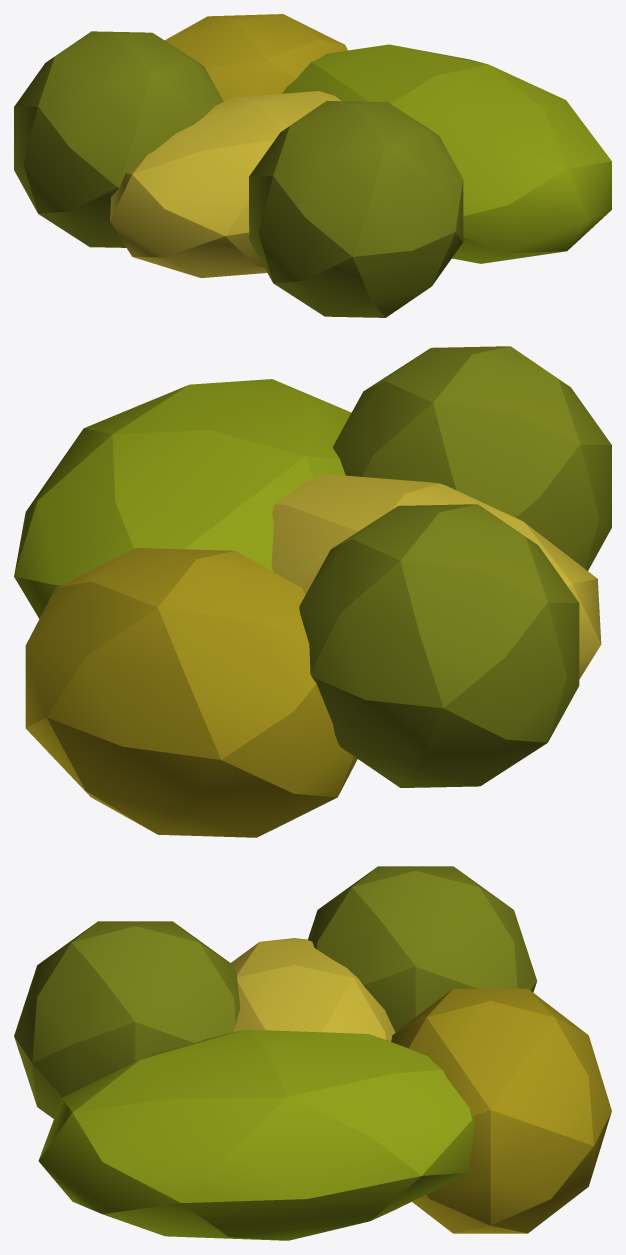
The model's file is Cloud2.fbx.
3 renders of one model, top to bottom at view 1: azimuth 30°, elevation 25°; view 2: azimuth 150°, elevation 25°; view 3: azimuth 270°, elevation 25°, orthographic. The views are drawn at different scales.
Parts seen in each view (by area): view 1: mergedBlocks; view 2: mergedBlocks; view 3: mergedBlocks.
Part boxes in pixels (x1,y1,x2,y2): mergedBlocks: [14, 14, 611, 317]; mergedBlocks: [14, 346, 611, 837]; mergedBlocks: [14, 866, 611, 1240].
Size of the model in its own units: 31.43 by 16 by 32.
